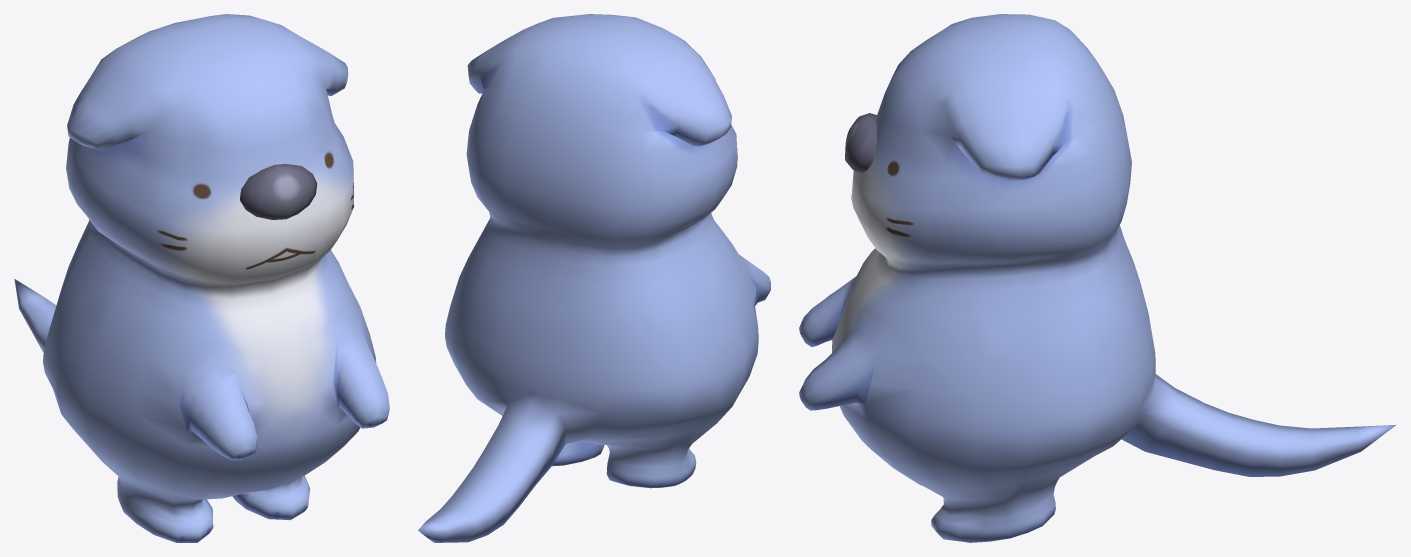
File: otter.fbx
3 renders of one model, left to right at view 1: azimuth 30°, elevation 25°; view 2: azimuth 150°, elevation 25°; view 3: azimuth 270°, elevation 25°, orthographic. The views are drawn at different scales.
Visible parts, largest first — view 1: otter; view 2: otter; view 3: otter.
Boxes of the visible parts, <box> form: otter: <box>14,14,389,542</box>; otter: <box>418,14,770,542</box>; otter: <box>799,14,1395,542</box>.
Size of the model in its own units: 86.92 by 142 by 161.
